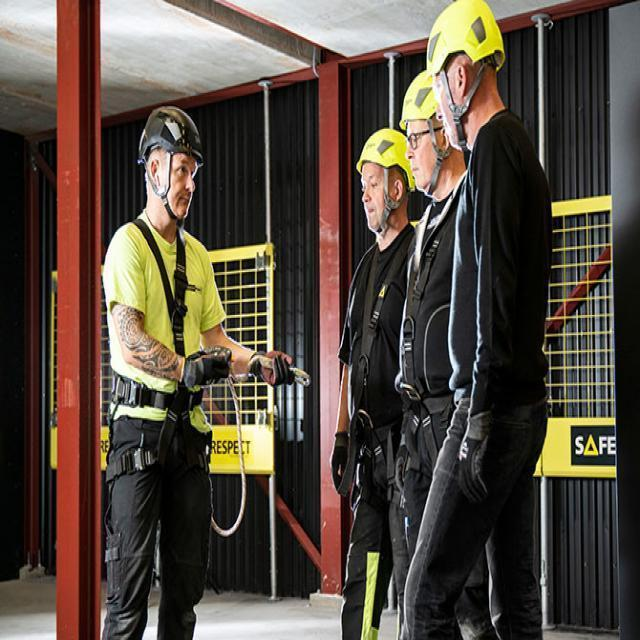No_Harness: (448, 127, 550, 407)
